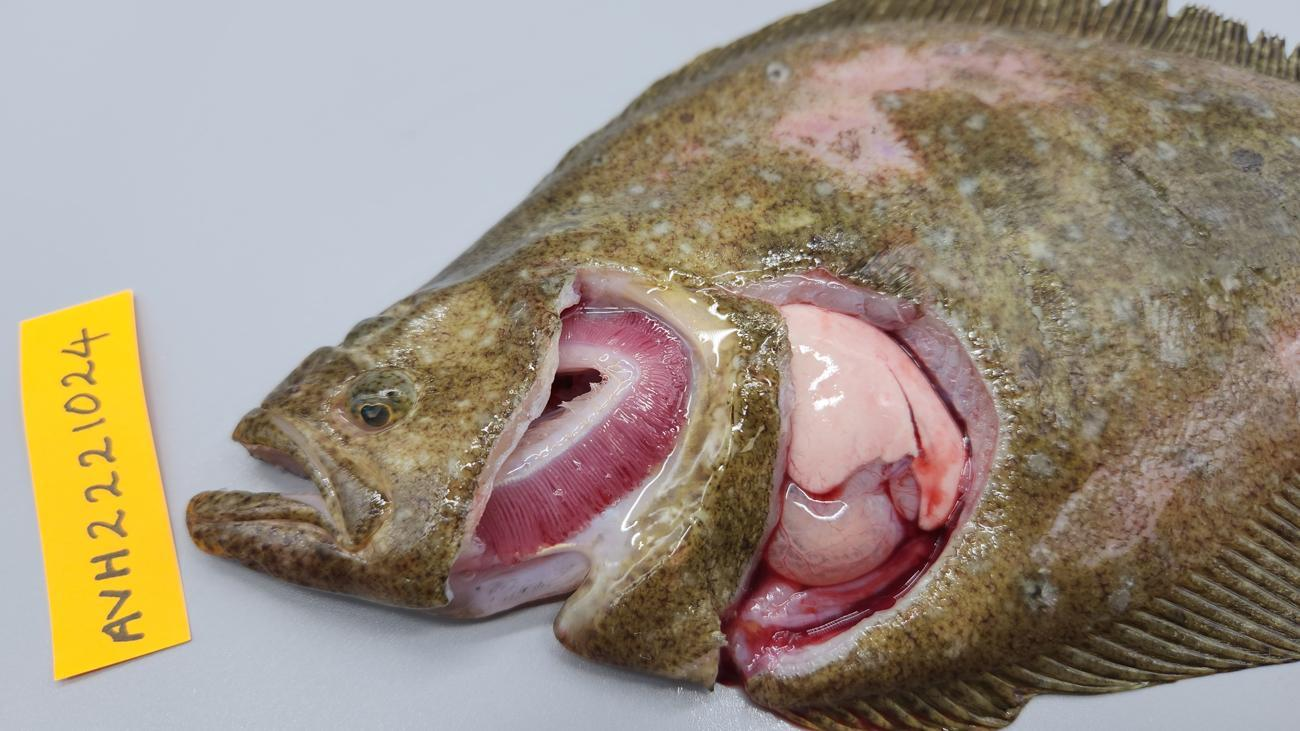VIGIP: (475, 307, 694, 564)
VILII: (785, 306, 966, 530)
